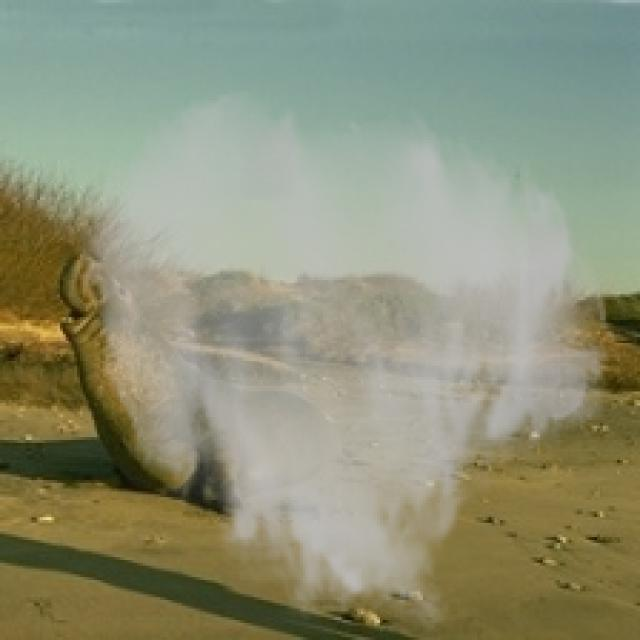smoke: (75, 86, 614, 634)
